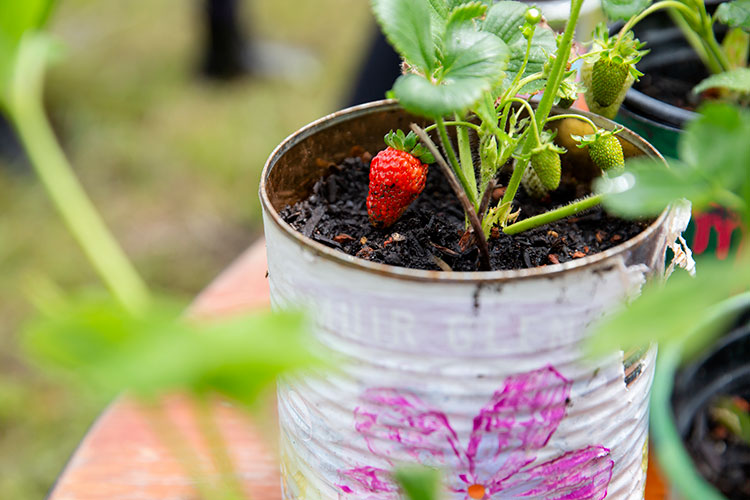ripe_strawberry: (366, 139, 431, 228)
unripe_strawberry: (579, 47, 638, 120), (579, 127, 633, 178), (590, 46, 632, 108), (513, 147, 553, 203), (526, 141, 568, 192)
